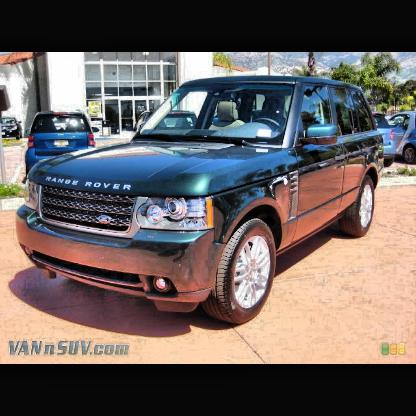Land Rover Range Rover SUV 2012: (20, 79, 383, 325)
